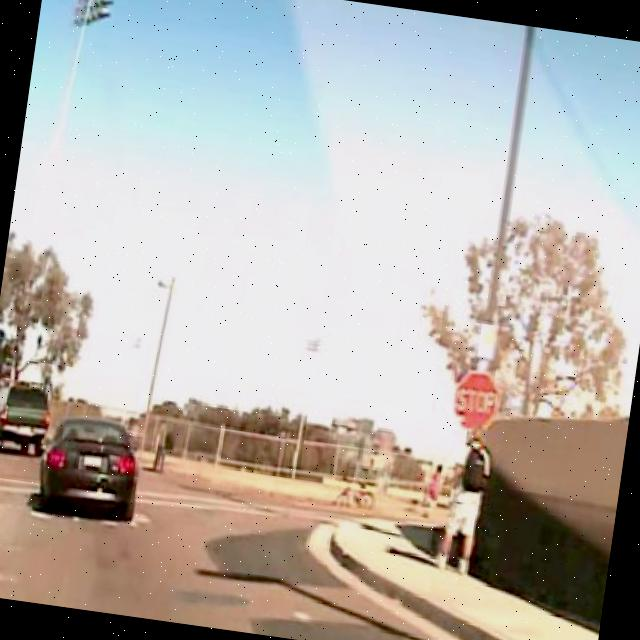Stop: (447, 364, 507, 438)
